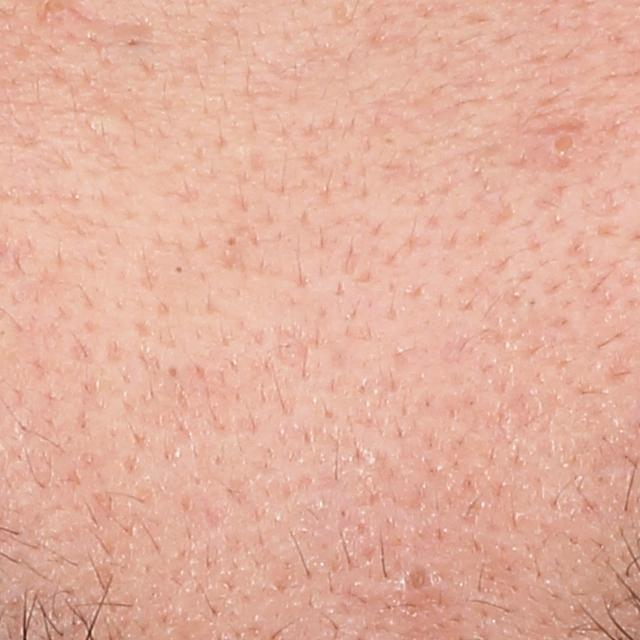comedo: (399, 558, 449, 605), (540, 125, 587, 169)
